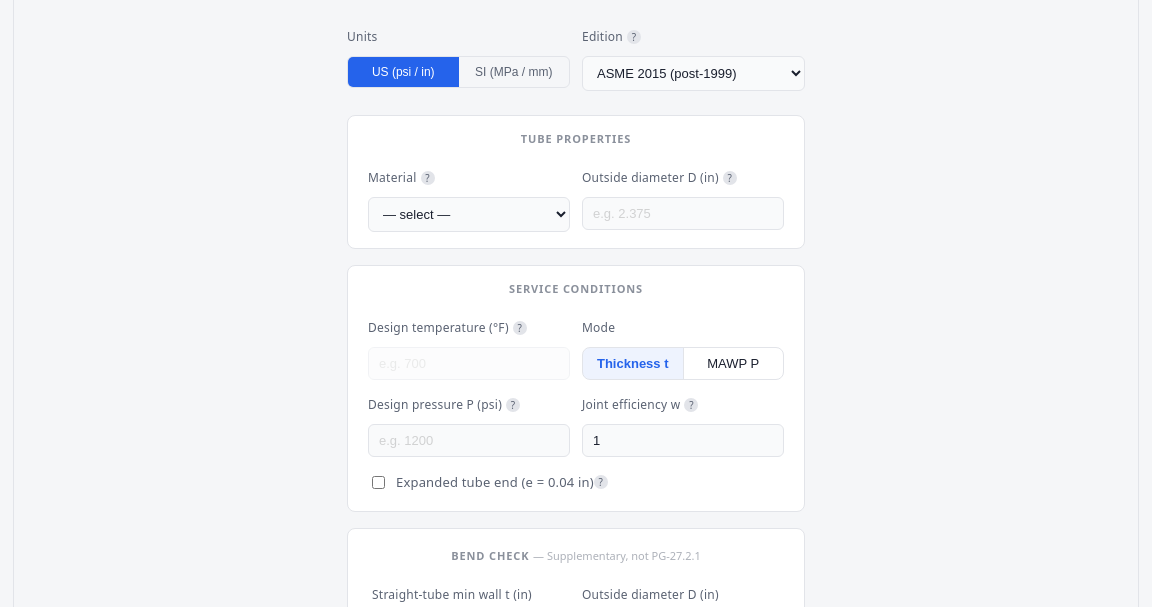
Test case: TubeCalculator Show Work › clicking Show Work again hides the steps
Select "SA-178 C" in the dropdown labelled "Material ?" at (469, 215), box x1=368 y1=197 x2=570 y2=232
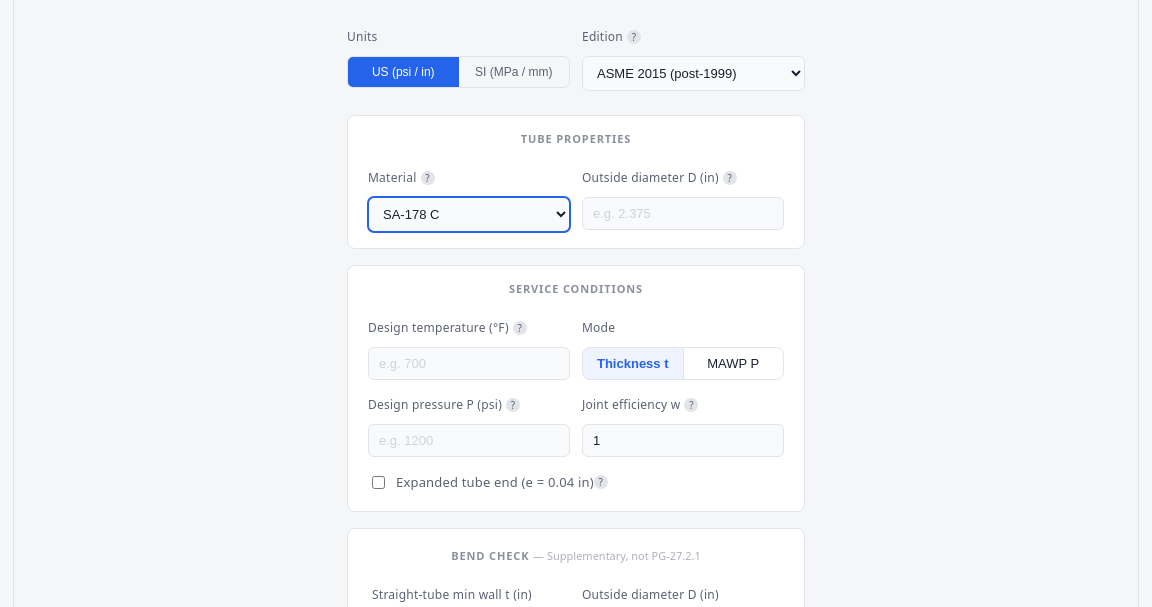
Type "700" into the number field with placeholder "e.g. 700".
click(469, 364); type("700")  # box x1=368 y1=347 x2=570 y2=380
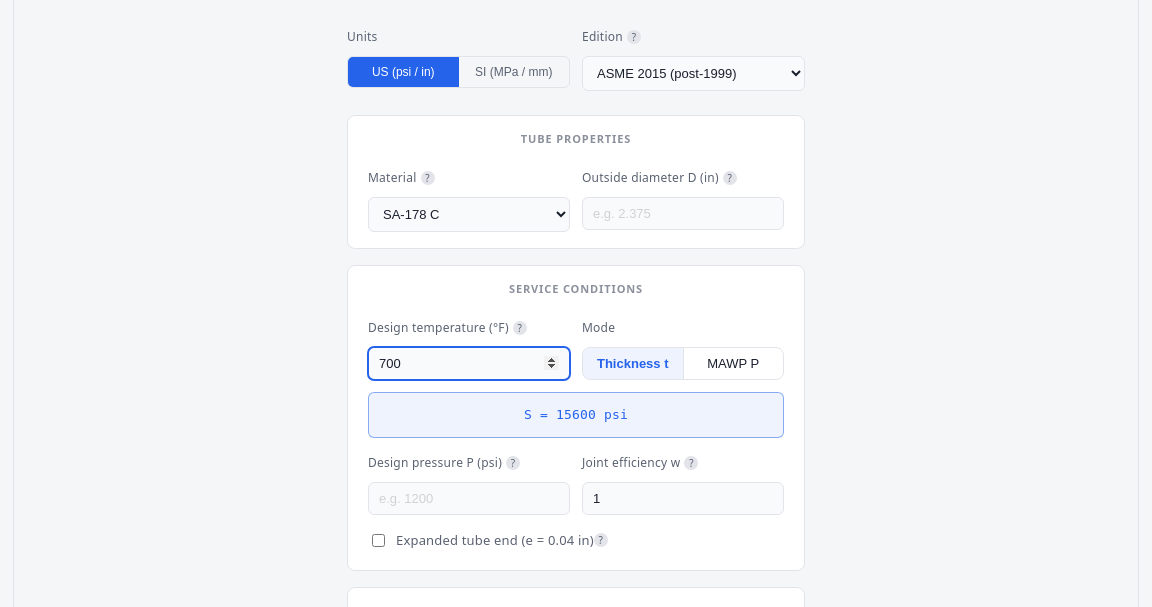
Type "970" into the number field with placeholder "e.g. 1200".
click(469, 499); type("970")  # box x1=368 y1=482 x2=570 y2=515
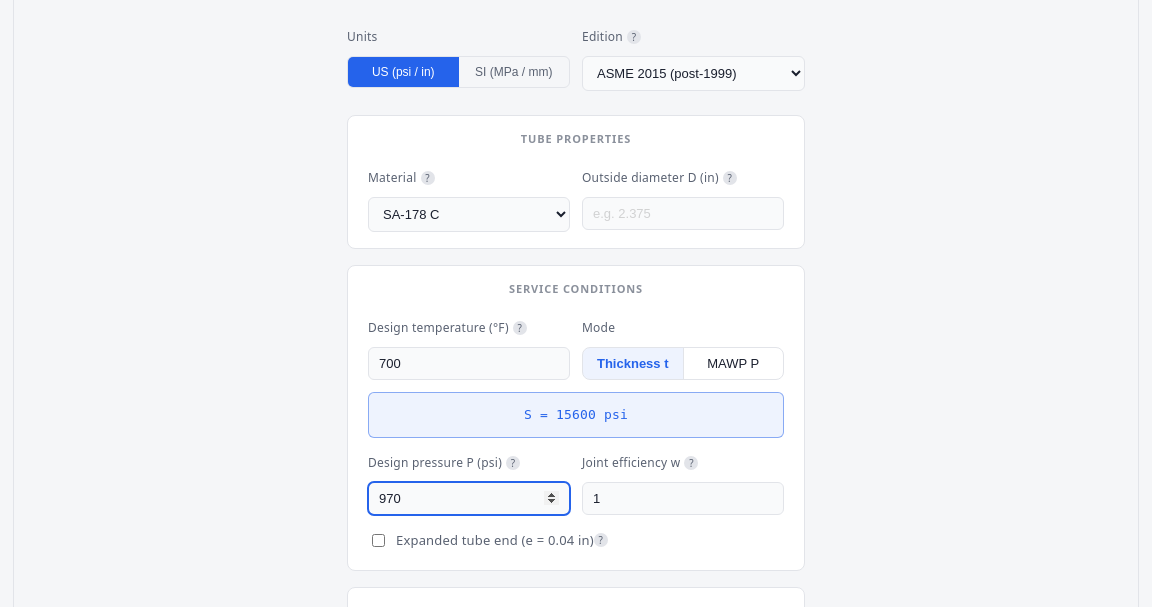
Type "2.375" into the number field with placeholder "e.g. 2.375".
click(683, 214); type("2.375")  # box x1=582 y1=197 x2=784 y2=230
(page scrolled)
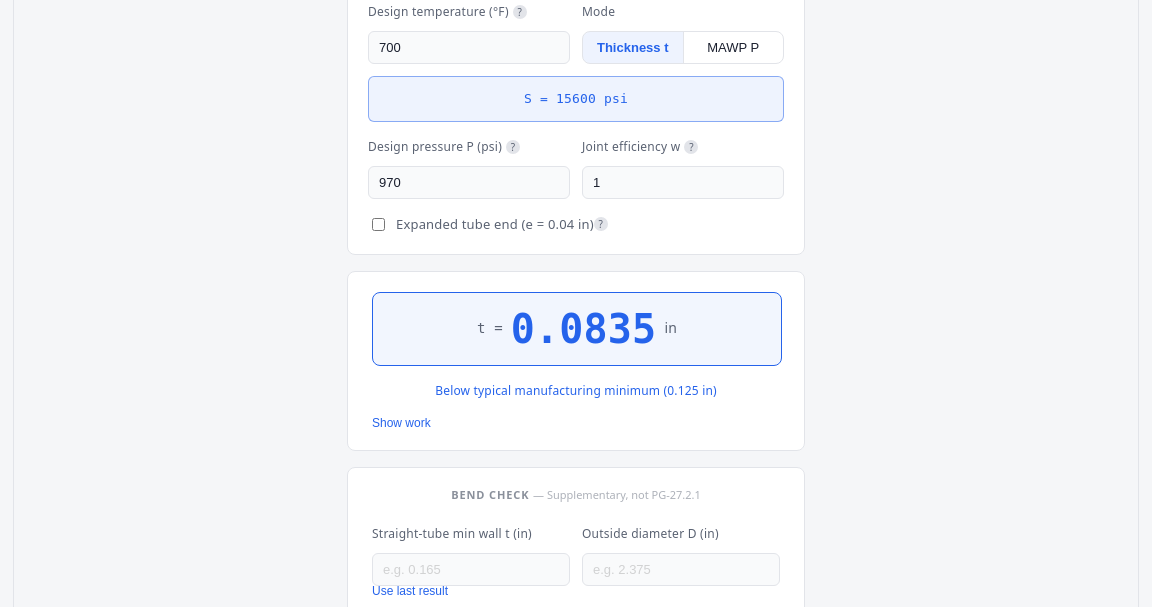
Click the button "Show work".
click(401, 423)  # box x1=372 y1=416 x2=780 y2=430
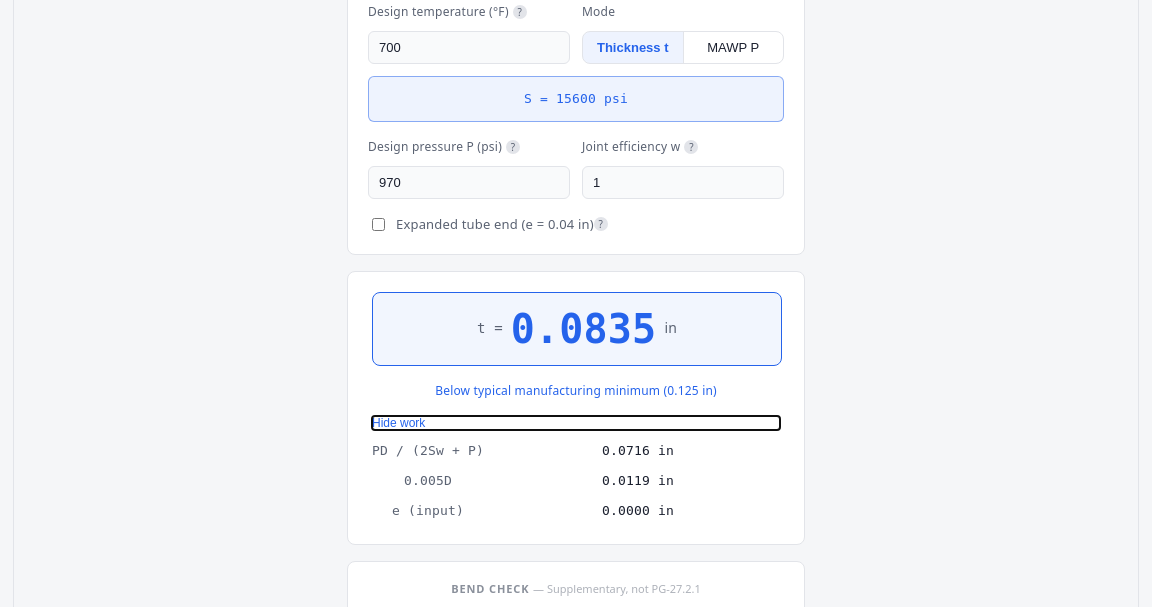
Click the button "Hide work".
click(399, 423)  # box x1=372 y1=416 x2=780 y2=430
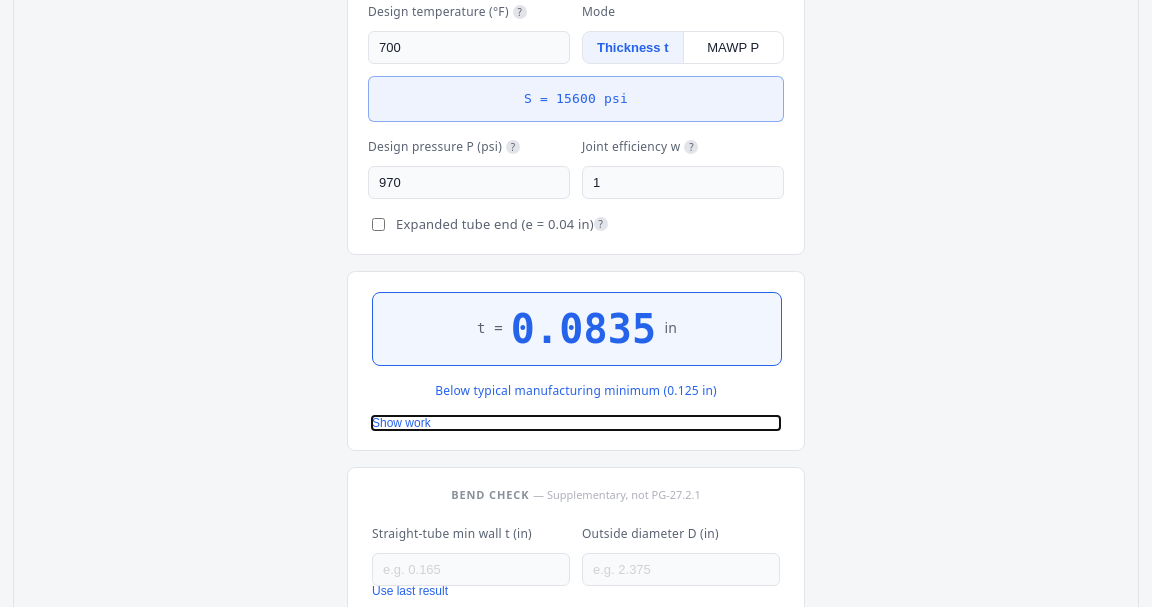
Expected: the text "PD / (2Sw + P)" is gone
